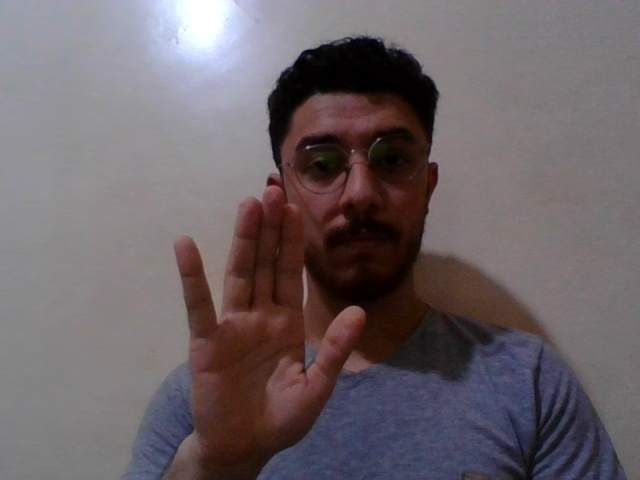Hello: (149, 188, 383, 461)
